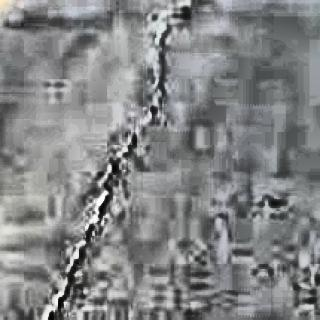crack: (37, 0, 186, 320)
